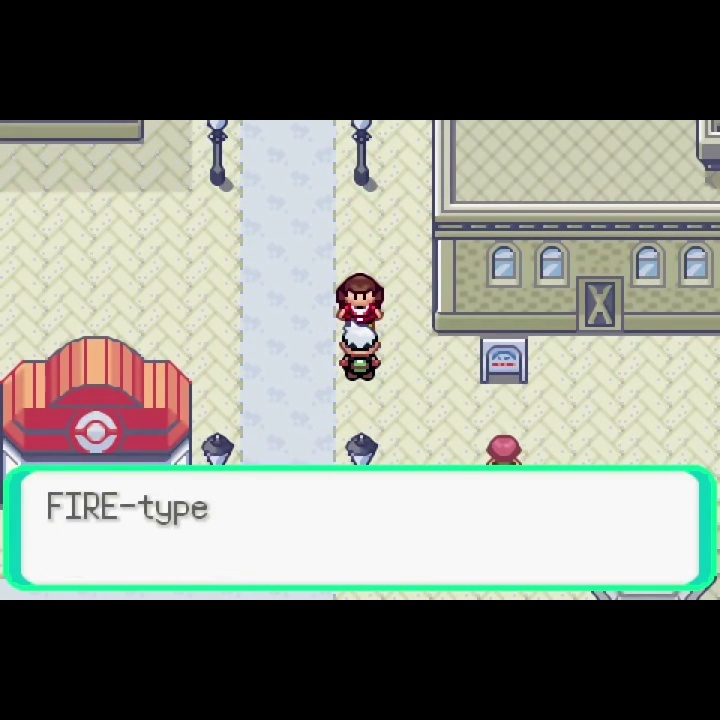house: (431, 119, 720, 336)
npc: (329, 271, 387, 328), (340, 320, 382, 383), (483, 431, 525, 466)
pokecen: (1, 334, 194, 466)
